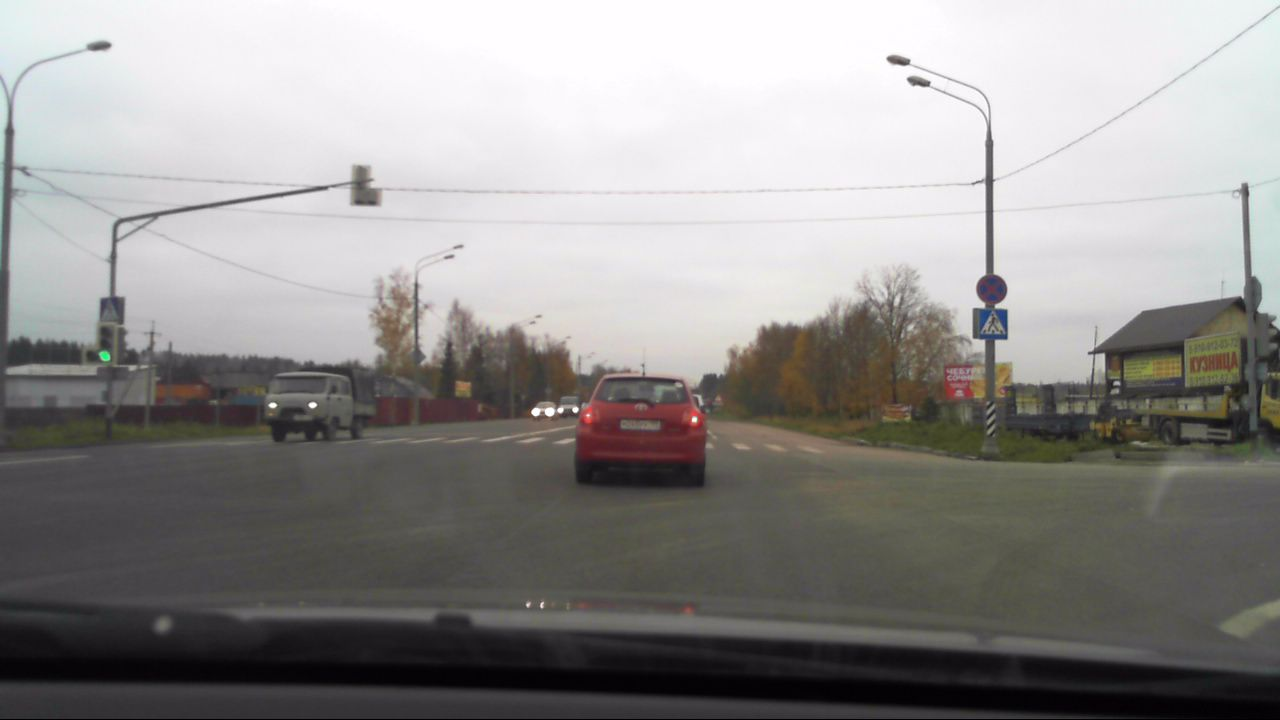No Parking: (974, 271, 1007, 304)
